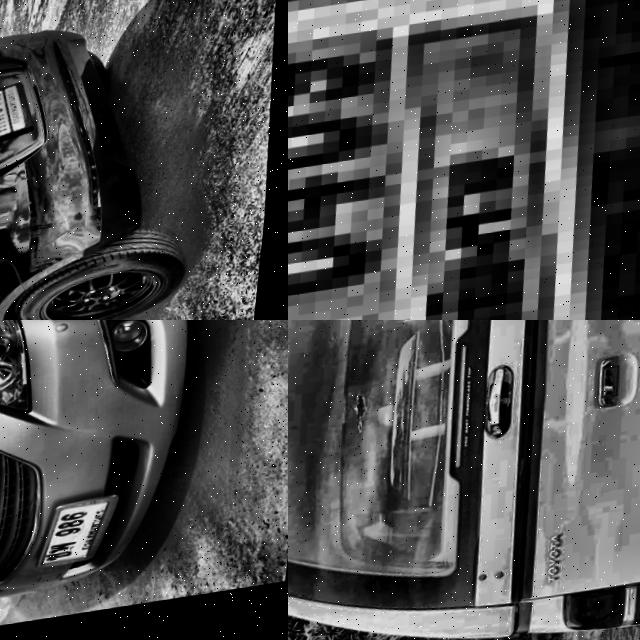license-plate: (288, 0, 640, 320), (39, 497, 139, 585), (0, 87, 35, 152)
